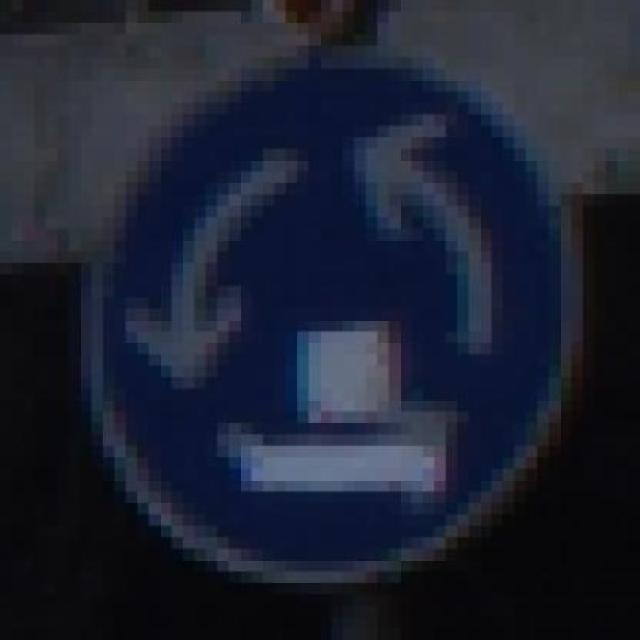Round-About: (45, 46, 606, 594)
